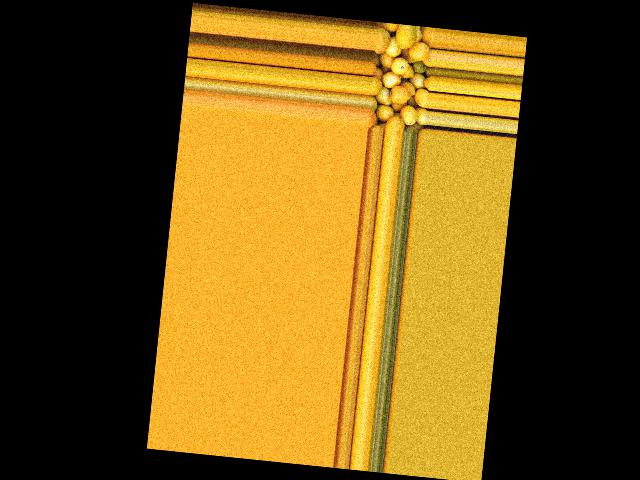lemon: (412, 86, 429, 108)
